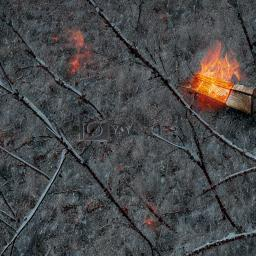Small fire: (192, 51, 237, 97)
